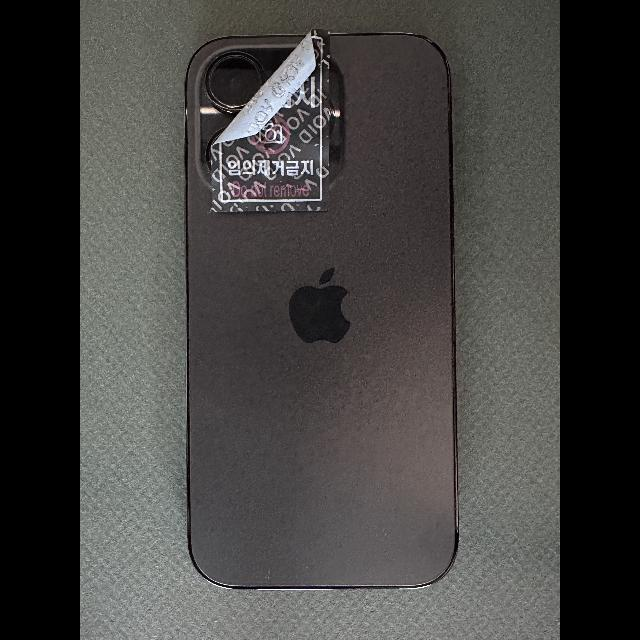lens: (204, 51, 266, 114), (206, 126, 227, 172)
phone: (184, 32, 460, 590)
sticker: (211, 28, 330, 213)
